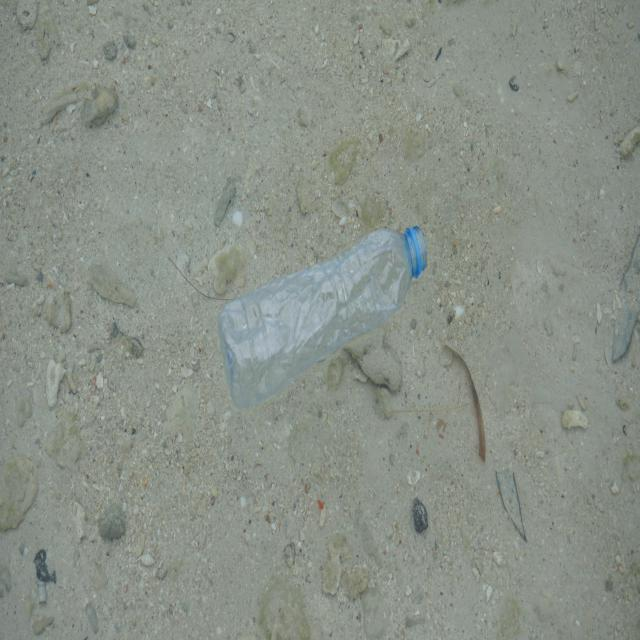Botol Plastik: (215, 209, 433, 420)
